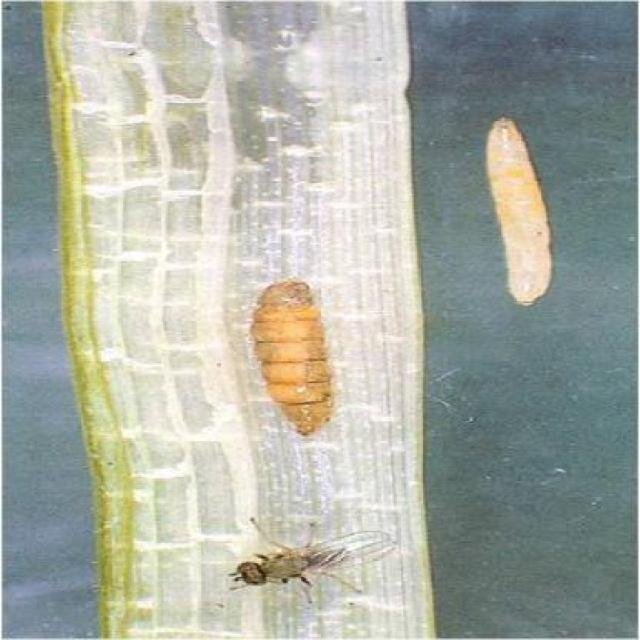whorl-maggot: (465, 110, 567, 318), (249, 275, 353, 450)
